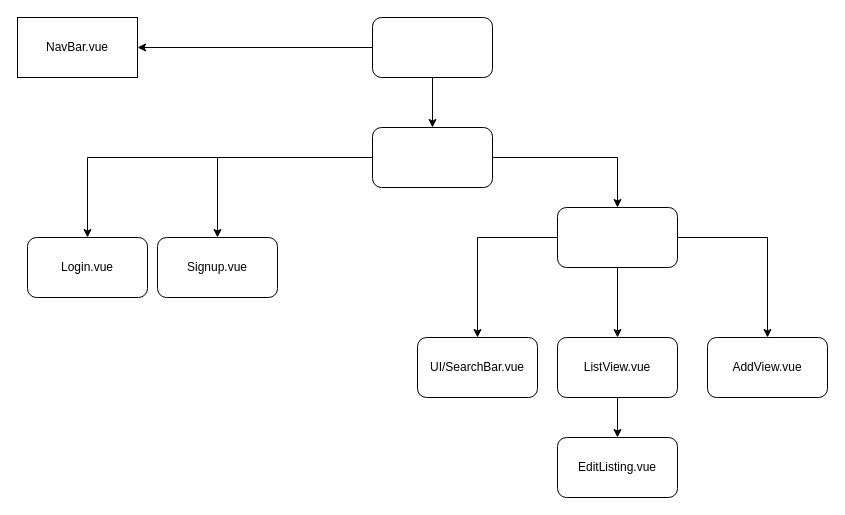
This 845x515 diagram has some shape labels left out. The shapes that lost their labels are listed below. From the top down, each one's centre as x and y in pixels, then its label:
At point 432,47: "App.vue".
At point 432,157: "router/index.js".
At point 617,237: "Home.vue".
